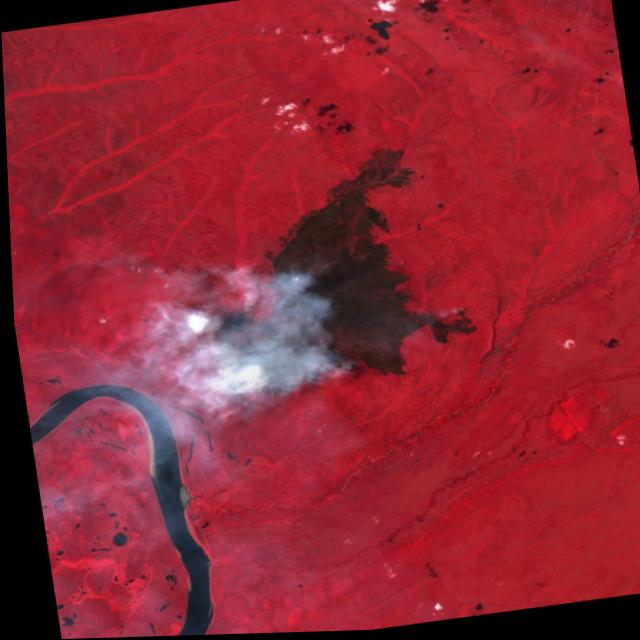fire: (172, 292, 372, 420)
